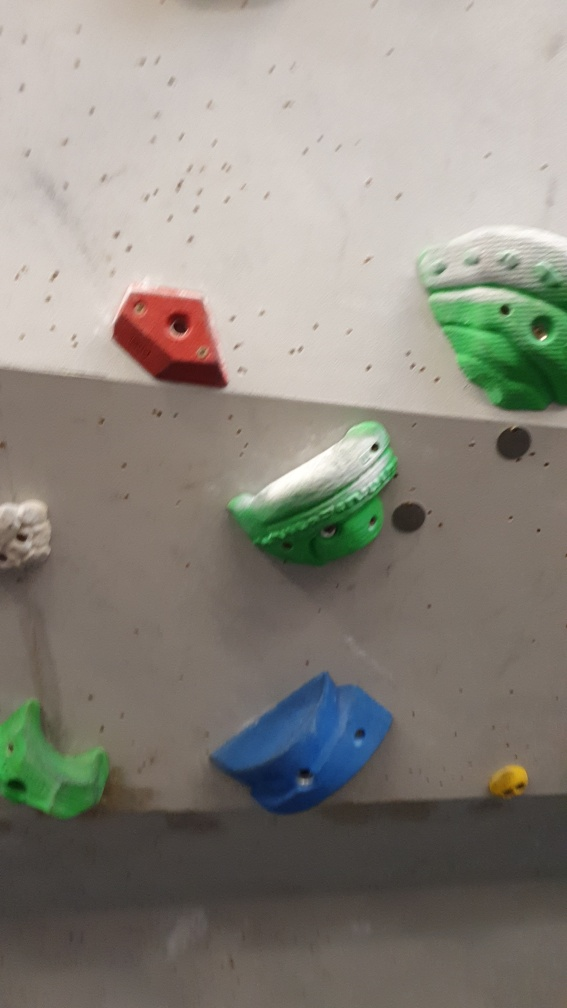Crimp: (106, 275, 234, 396)
Hand Start: (388, 494, 434, 539), (493, 422, 541, 464)
Jug: (411, 223, 567, 415), (225, 417, 402, 569), (1, 700, 120, 828)
Pinch: (203, 666, 401, 820)
